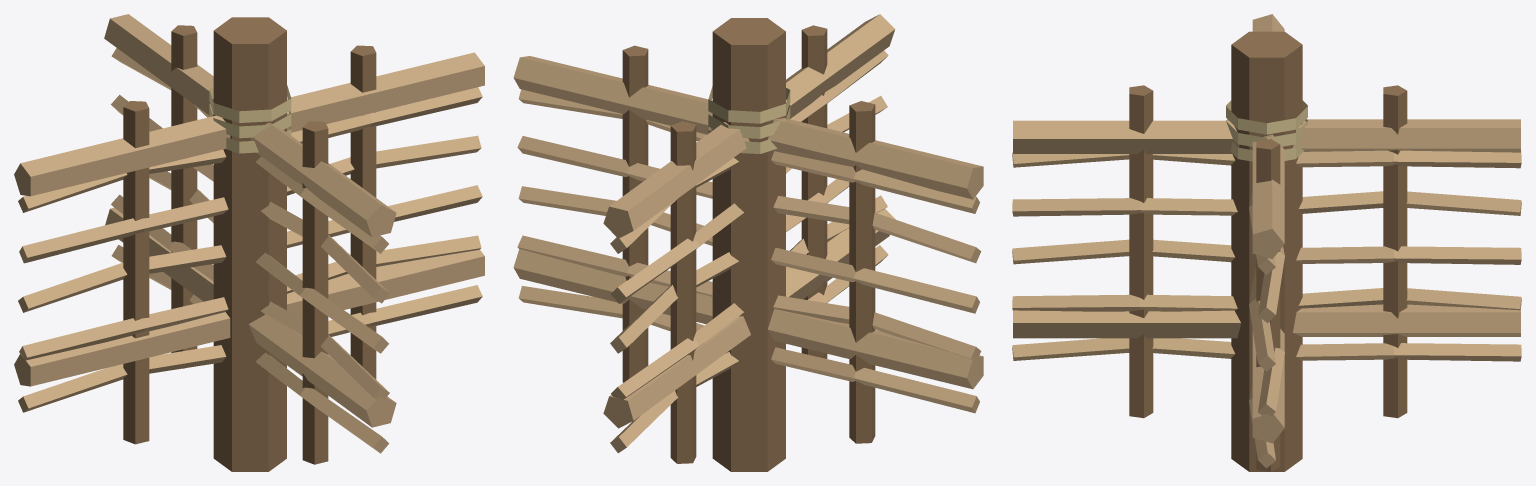
Rendered from pen_fence_0f.glb.
3 renders of one model, left to right at view 1: azimuth 30°, elevation 25°; view 2: azimuth 150°, elevation 25°; view 3: azimuth 270°, elevation 25°, orthographic. The views are drawn at different scales.
Visible parts, largest first — view 1: pen_fence_0f; view 2: pen_fence_0f; view 3: pen_fence_0f.
Part boxes in pixels (x1,y1,x2,y2): pen_fence_0f: [14, 14, 484, 471]; pen_fence_0f: [513, 14, 983, 471]; pen_fence_0f: [1012, 14, 1521, 471].
Bounding box in the file's own units: 1 × 0.9 × 1.
